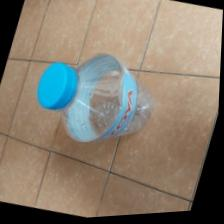plastic: (13, 36, 171, 168)
